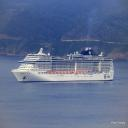cruises: (11, 48, 116, 84)
